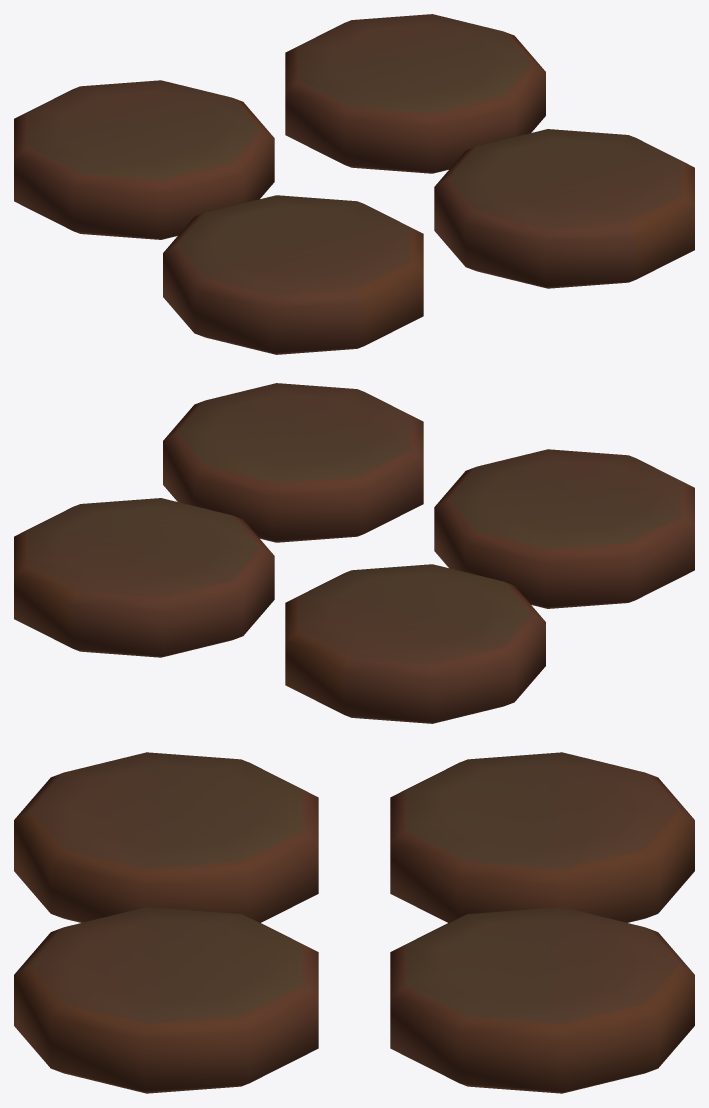
File: CookedBurgerPatties.glb
3 views of the same model, one above another, from view 1: azimuth 30°, elevation 25°; view 2: azimuth 150°, elevation 25°; view 3: azimuth 270°, elevation 25° (orthographic). The views are drawn at different scales.
Visible parts, largest first — view 1: CookedBurgerPatties; view 2: CookedBurgerPatties; view 3: CookedBurgerPatties.
Boxes of the visible parts, box(x1,y1,x2,y2) form: CookedBurgerPatties: box(14, 14, 694, 354); CookedBurgerPatties: box(14, 383, 694, 723); CookedBurgerPatties: box(14, 752, 694, 1093).
Size of the model in its own units: 0.4006 by 0.0509 by 0.4039.
1 material, 1 textured.
